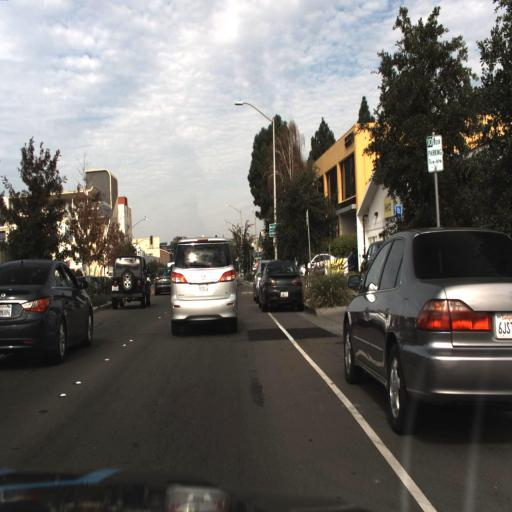car: (331, 213, 510, 452), (0, 243, 97, 395), (159, 229, 250, 349), (253, 257, 305, 317), (109, 247, 151, 314), (148, 255, 178, 305)
